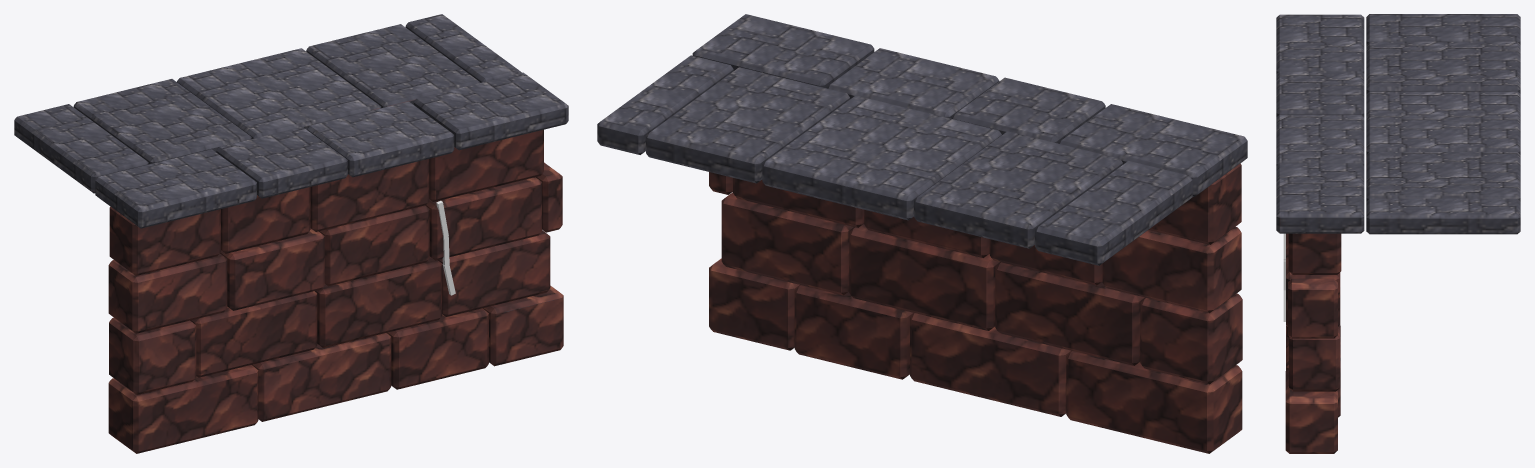
The model's file is mapkit_face_magma.fbx.
3 views of the same model, side by side, from view 1: azimuth 30°, elevation 25°; view 2: azimuth 150°, elevation 25°; view 3: azimuth 270°, elevation 25° (orthographic). The views are drawn at different scales.
Parts seen in each view (by area): view 1: Body, c_255_115_31; view 2: Body; view 3: Body, c_255_115_31.
Boxes of the visible parts, bbox=[...] form: Body: bbox=[14, 14, 568, 453]; c_255_115_31: bbox=[436, 200, 455, 295]; Body: bbox=[597, 14, 1247, 453]; Body: bbox=[1276, 14, 1520, 453]; c_255_115_31: bbox=[1283, 233, 1285, 321].
Bounding box in the file's own units: 1196 × 664 × 610.
Materials: 1 (1 with a texture image).
